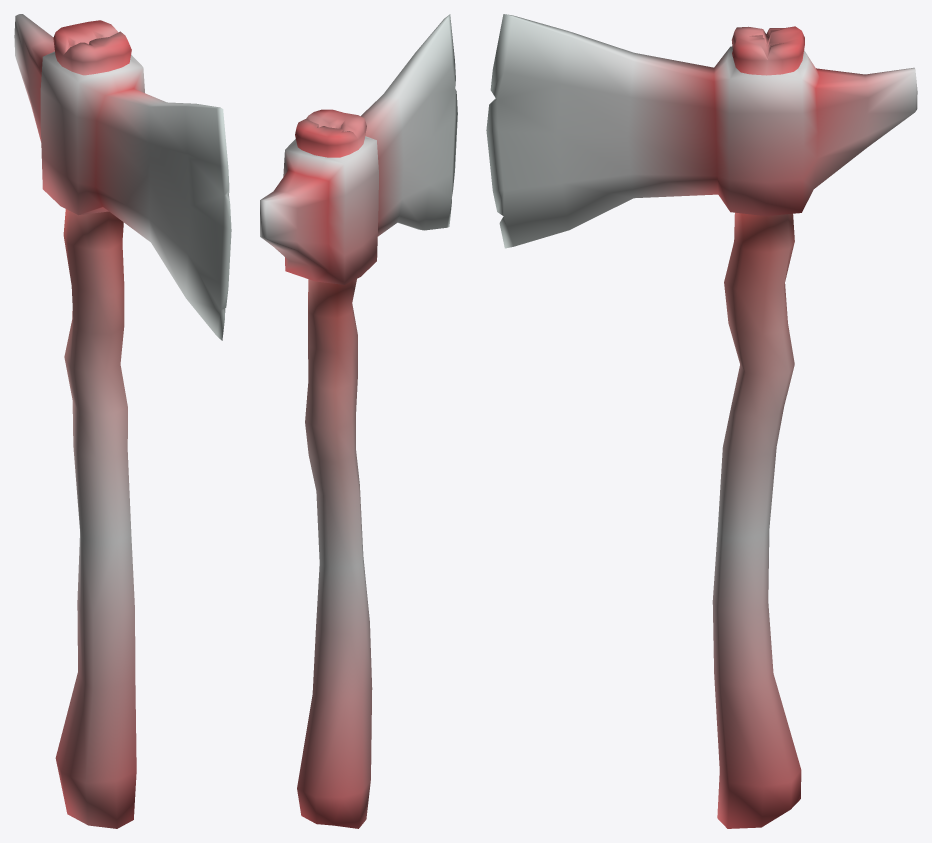
File: PSX_Axe.fbx
3 views of the same model, side by side, from view 1: azimuth 30°, elevation 25°; view 2: azimuth 150°, elevation 25°; view 3: azimuth 270°, elevation 25° (orthographic). The views are drawn at different scales.
Parts seen in each view (by area): view 1: Axe; view 2: Axe; view 3: Axe.
Part boxes in pixels (x1,y1,x2,y2): Axe: (14,14,231,828); Axe: (260,14,457,828); Axe: (486,14,917,828).
Bounding box in the file's own units: 12.67 × 131 × 63.52.
